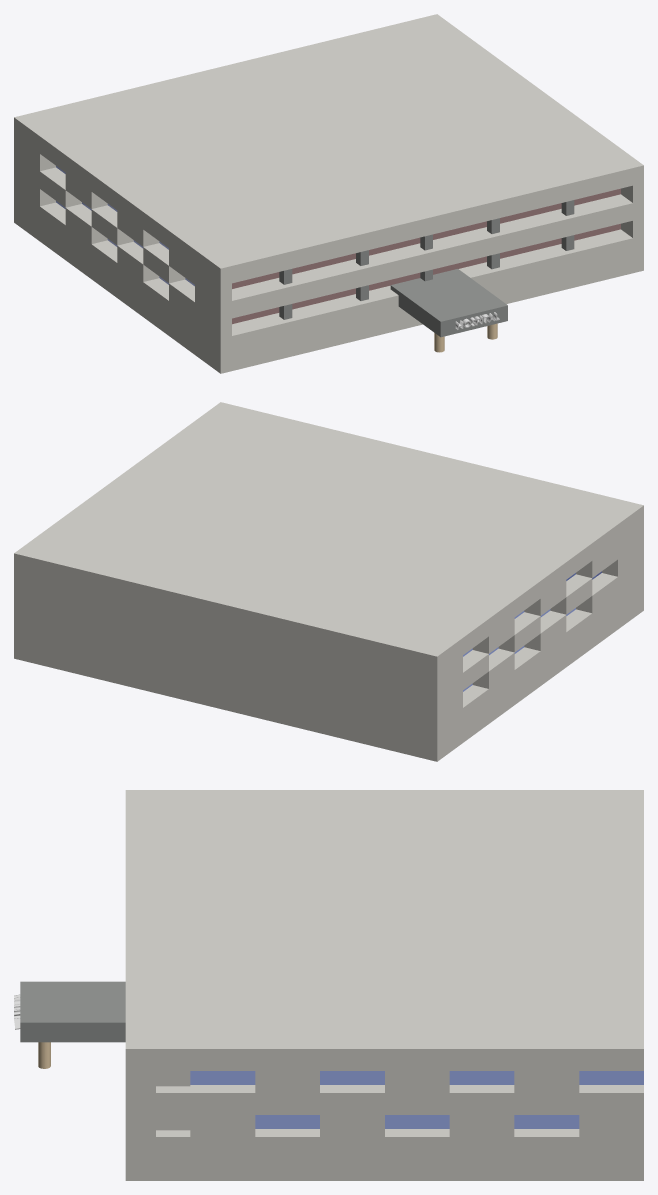
File: hospital.glb
3 renders of one model, top to bottom at view 1: azimuth 30°, elevation 25°; view 2: azimuth 150°, elevation 25°; view 3: azimuth 270°, elevation 25°, orthographic. The views are drawn at different scales.
Parts seen in each view (by area): view 1: Cube.006; view 2: Cube.006; view 3: Cube.006.
Boxes of the visible parts, bbox=[...] form: Cube.006: bbox=[14, 14, 643, 373]; Cube.006: bbox=[14, 402, 643, 761]; Cube.006: bbox=[20, 790, 643, 1180].
Bounding box in the file's own units: 17.43 × 4.14 × 17.92.
